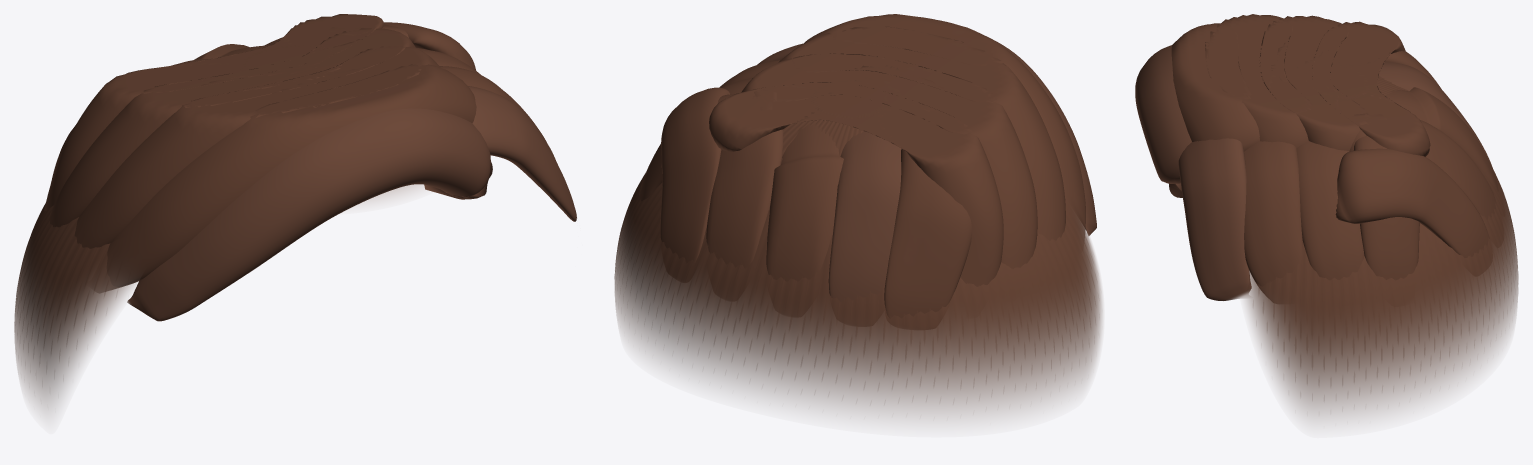
File: Masculine-taper-bucket257-hair.glb
3 renders of one model, left to right at view 1: azimuth 30°, elevation 25°; view 2: azimuth 150°, elevation 25°; view 3: azimuth 270°, elevation 25°, orthographic. The views are drawn at different scales.
Visible parts, largest first — view 1: 226 hair / Hair252 / sculpted locks, 226 hair / Hair252 / gentle tonal variation, 226 hair / Hair257 / smooth side fade, 226 hair / Hair257 / directional fade marks; view 2: 226 hair / Hair252 / sculpted locks, 226 hair / Hair257 / smooth side fade, 226 hair / Hair252 / gentle tonal variation, 226 hair / Hair257 / directional fade marks; view 3: 226 hair / Hair252 / sculpted locks, 226 hair / Hair257 / smooth side fade, 226 hair / Hair252 / gentle tonal variation, 226 hair / Hair257 / directional fade marks.
Boxes of the visible parts, box(x1,y1,x2,y2) form: 226 hair / Hair252 / sculpted locks: box(44, 14, 555, 291); 226 hair / Hair252 / gentle tonal variation: box(127, 58, 576, 321); 226 hair / Hair257 / smooth side fade: box(14, 45, 422, 410); 226 hair / Hair257 / directional fade marks: box(16, 205, 108, 358); 226 hair / Hair252 / sculpted locks: box(639, 14, 1085, 318); 226 hair / Hair257 / smooth side fade: box(614, 80, 1102, 417); 226 hair / Hair252 / gentle tonal variation: box(757, 20, 1096, 301); 226 hair / Hair257 / directional fade marks: box(624, 174, 1095, 387); 226 hair / Hair252 / sculpted locks: box(1171, 14, 1498, 300); 226 hair / Hair257 / smooth side fade: box(1244, 64, 1518, 418); 226 hair / Hair252 / gentle tonal variation: box(1135, 45, 1492, 300); 226 hair / Hair257 / directional fade marks: box(1258, 166, 1515, 384).
Size of the model in its own units: 0.9723 by 0.6199 by 0.7439.
